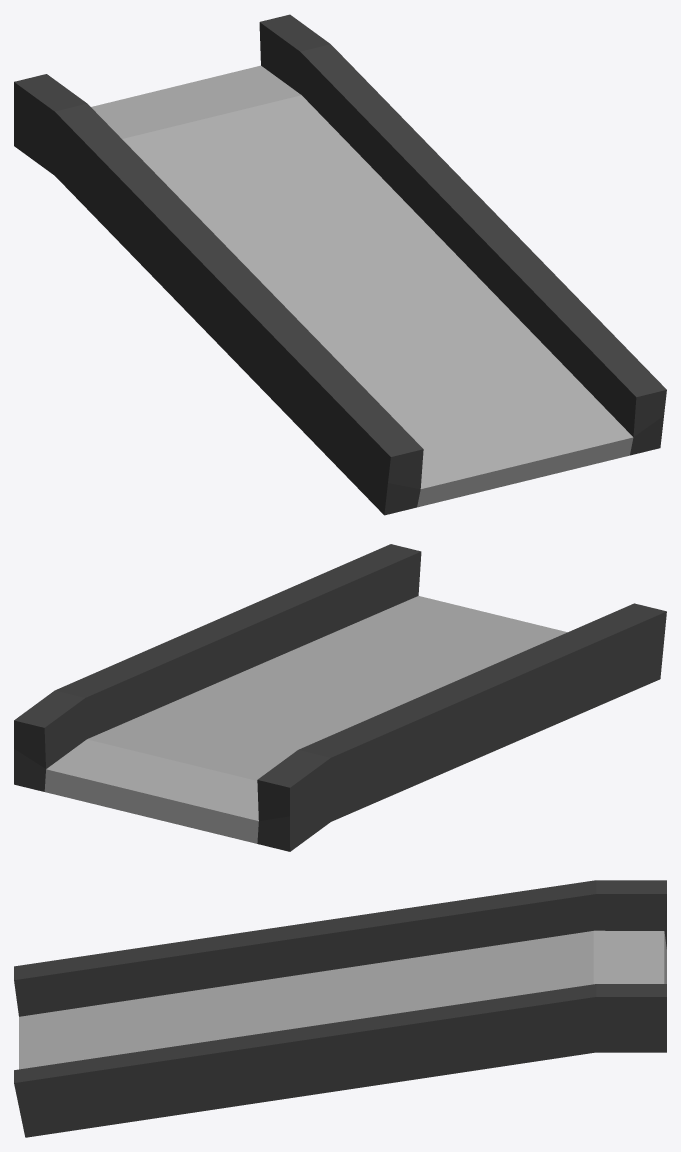
File: Lab_Slider.fbx
3 views of the same model, one above another, from view 1: azimuth 30°, elevation 25°; view 2: azimuth 150°, elevation 25°; view 3: azimuth 270°, elevation 25° (orthographic). The views are drawn at different scales.
Parts seen in each view (by area): view 1: Lab_Slider; view 2: Lab_Slider; view 3: Lab_Slider.
Part boxes in pixels (x1,y1,x2,y2): Lab_Slider: (14,14,666,515); Lab_Slider: (14,544,666,851); Lab_Slider: (14,880,666,1137).
Bounding box in the file's own units: 4.43 × 2.5 × 10.48.
